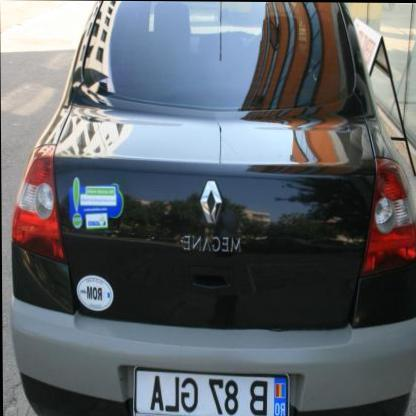License_Plate: (132, 367, 290, 416)
